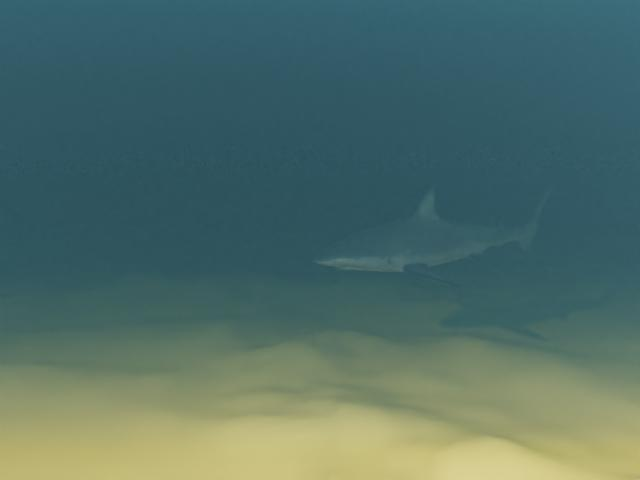Carribean Shark.001: (313, 182, 557, 287)
